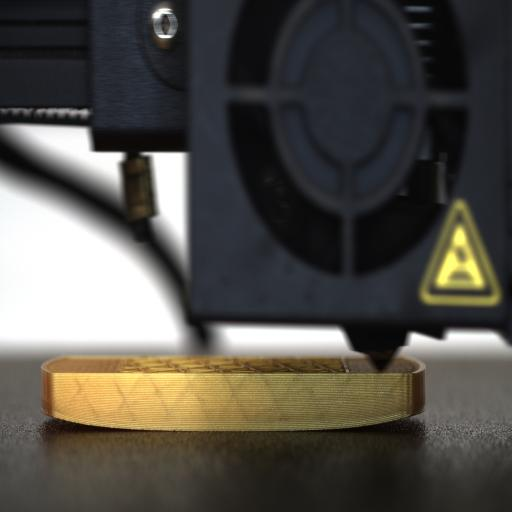warp: (372, 398, 430, 430), (42, 403, 98, 431)
